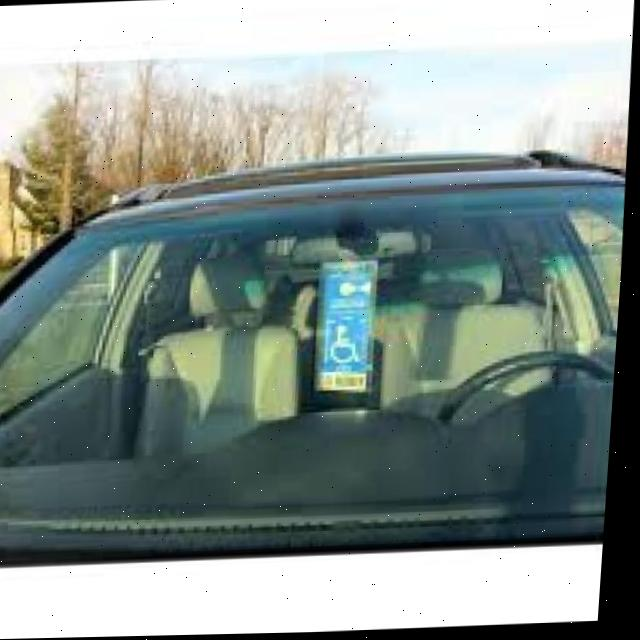symbol_of_access: (331, 325, 373, 371)
